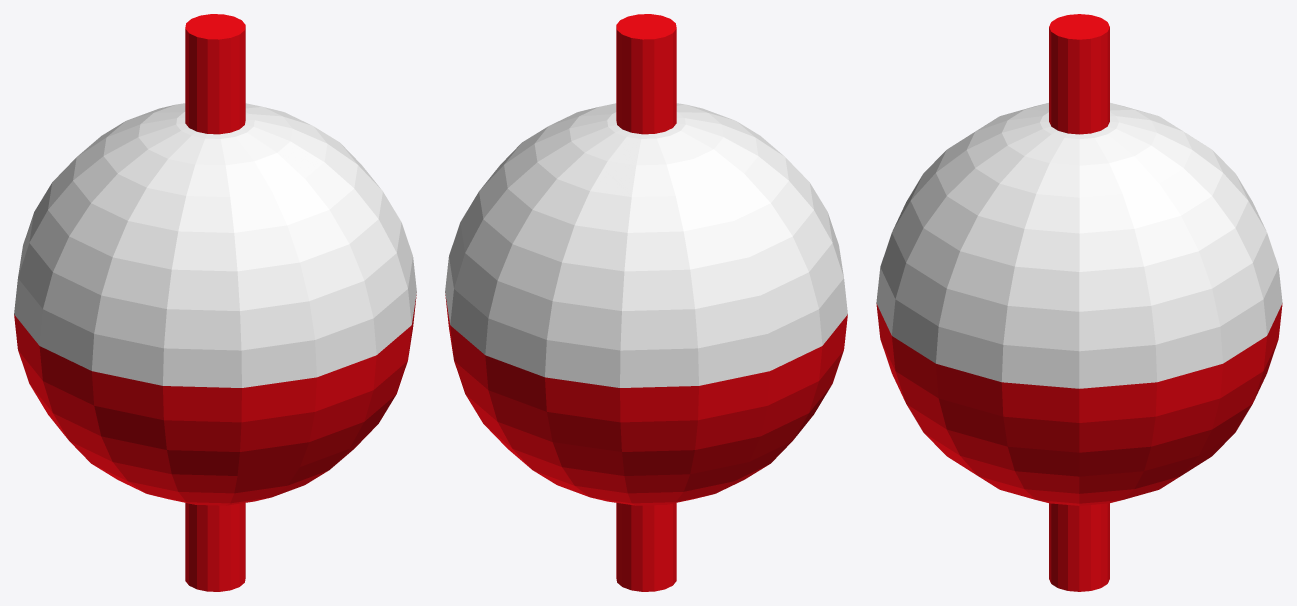
File: Bobber.fbx
3 renders of one model, left to right at view 1: azimuth 30°, elevation 25°; view 2: azimuth 150°, elevation 25°; view 3: azimuth 270°, elevation 25°, orthographic.
Parts seen in each view (by area): view 1: Sphere; view 2: Sphere; view 3: Sphere.
Boxes of the visible parts, x1,y1,x2,y2 form: Sphere: [14, 14, 416, 591]; Sphere: [445, 14, 847, 591]; Sphere: [876, 14, 1282, 591].
Bounding box in the file's own units: 200 × 300 × 200.
